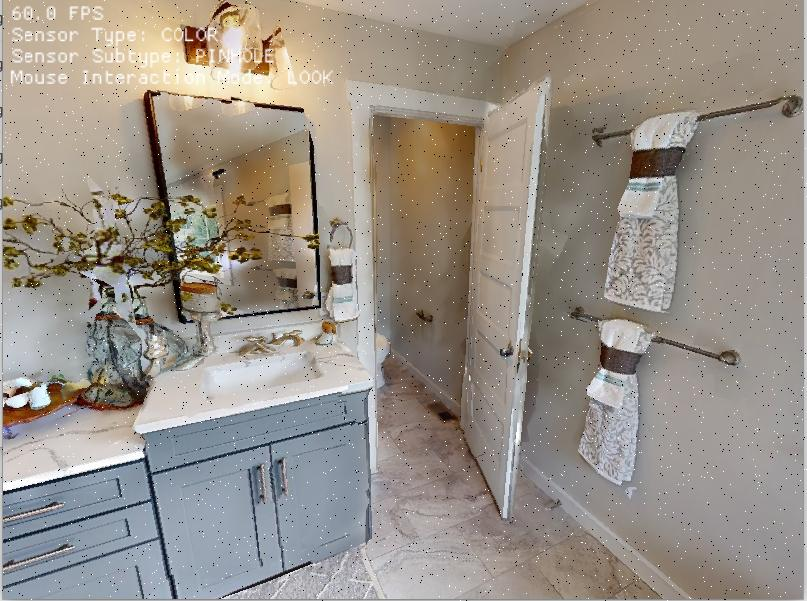door: (443, 71, 566, 527)
door-frame: (346, 82, 516, 486)
sink: (153, 297, 366, 516)
